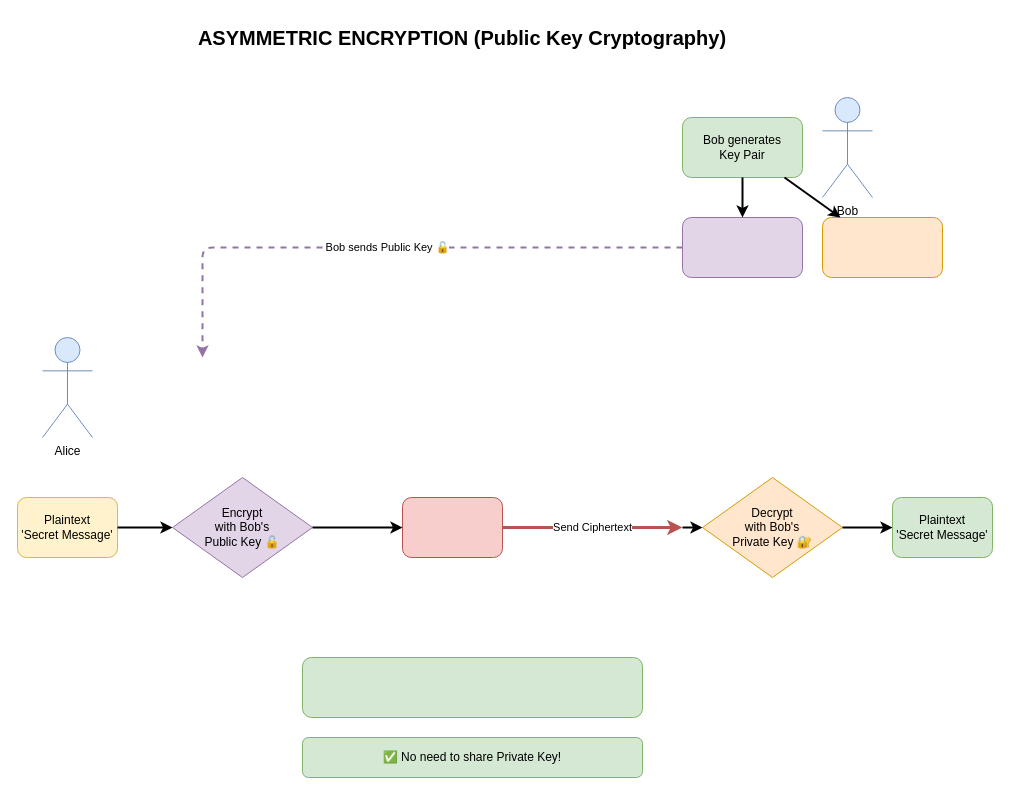
Some shapes in this 1010 by 795 pixel diagram are drawn without their labels. Each missing label, with the centre of its shape:
Ciphertext 'X@7$Y#': (452,527)
✅ Only Bob can decrypt (he has Private Key 🔐): (472,687)
🔐 Private Key (Keep secret!): (882,247)
🔓 Public Key (Share with everyone): (742,247)
